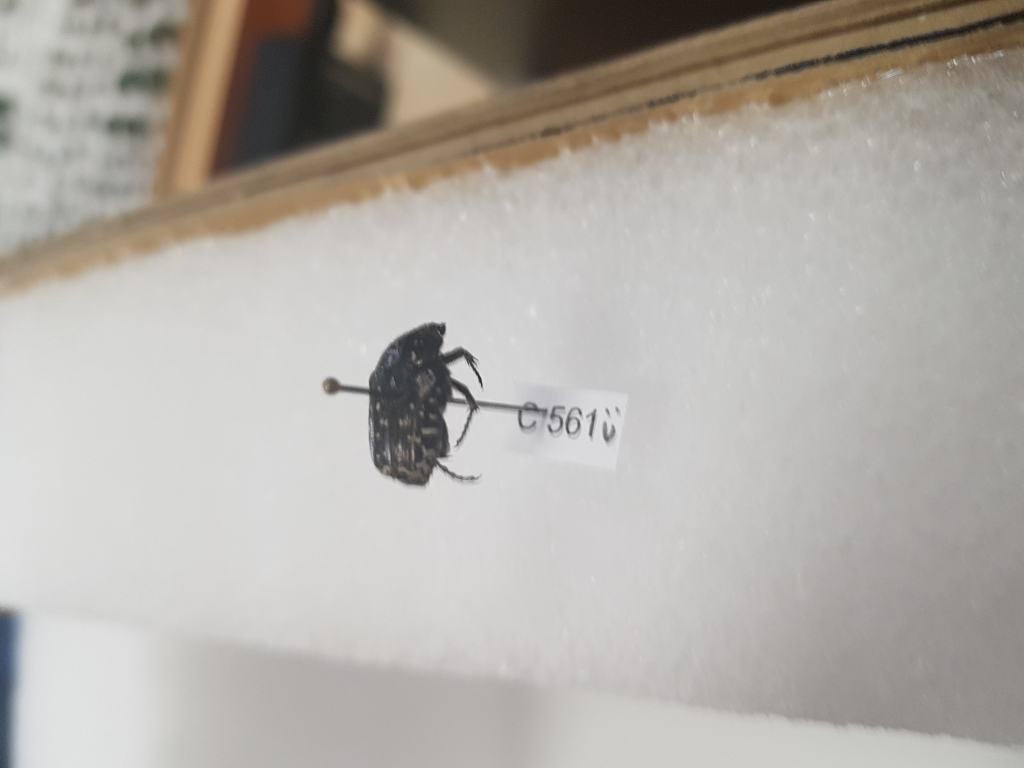Oxythyrea_funesta: (369, 310, 480, 495)
